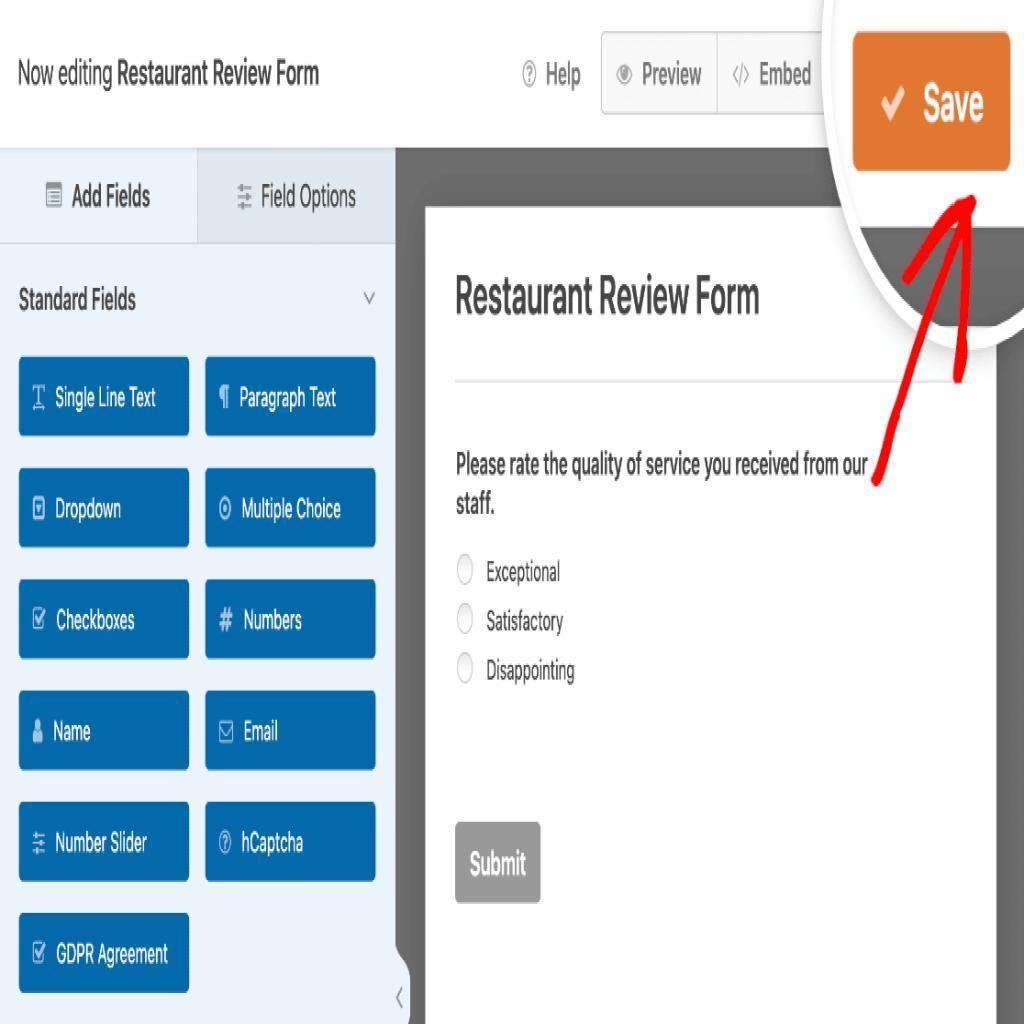button: (203, 465, 381, 554), (203, 689, 381, 776), (204, 354, 381, 441), (206, 800, 381, 887), (17, 687, 193, 773), (19, 911, 193, 997), (19, 798, 192, 884), (203, 577, 379, 661), (19, 577, 192, 662), (19, 467, 192, 551), (19, 355, 191, 438), (454, 821, 543, 905)
dropdown: (7, 265, 391, 324)
icon: (615, 62, 637, 88), (521, 59, 539, 89)
radio: (455, 647, 477, 687), (454, 601, 478, 635), (455, 553, 476, 587)
